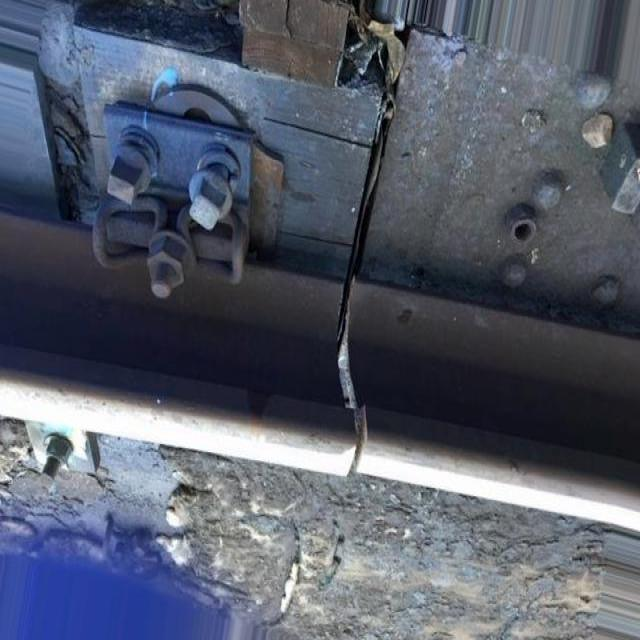crack: (276, 1, 455, 530)
